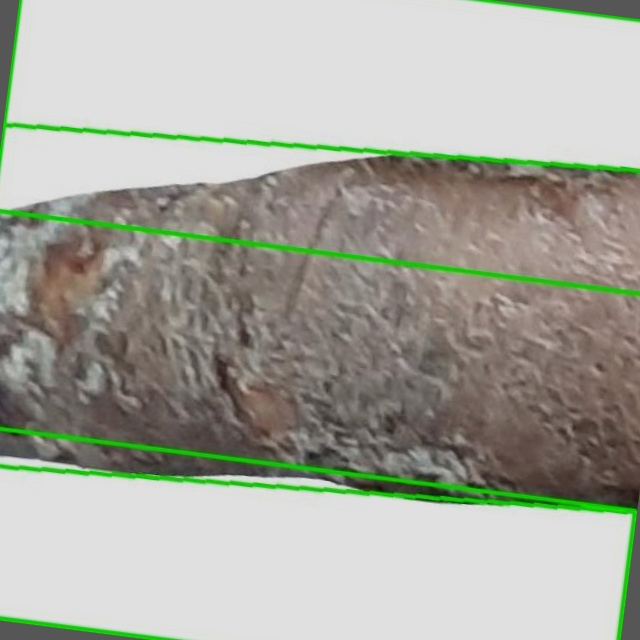Eczema: (0, 125, 639, 513), (0, 0, 639, 294), (0, 430, 636, 639)
